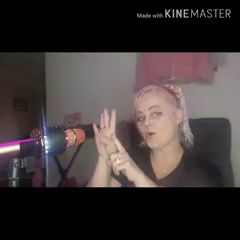Y: (86, 105, 139, 182)
